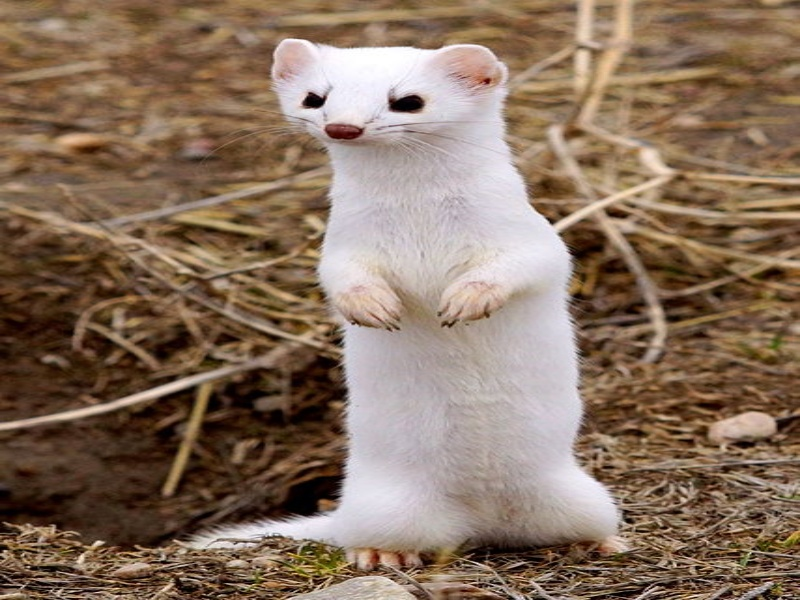minkish: (161, 29, 642, 576)
